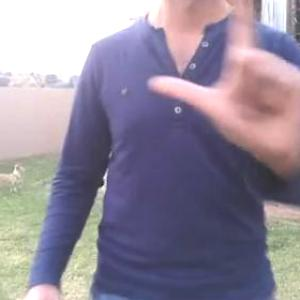land_hand: (138, 0, 299, 175)
